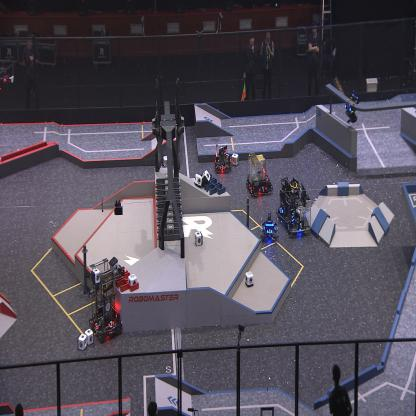car: (88, 259, 122, 342), (284, 185, 311, 237), (245, 151, 274, 198), (276, 176, 302, 225), (259, 212, 278, 243), (214, 144, 233, 173)
